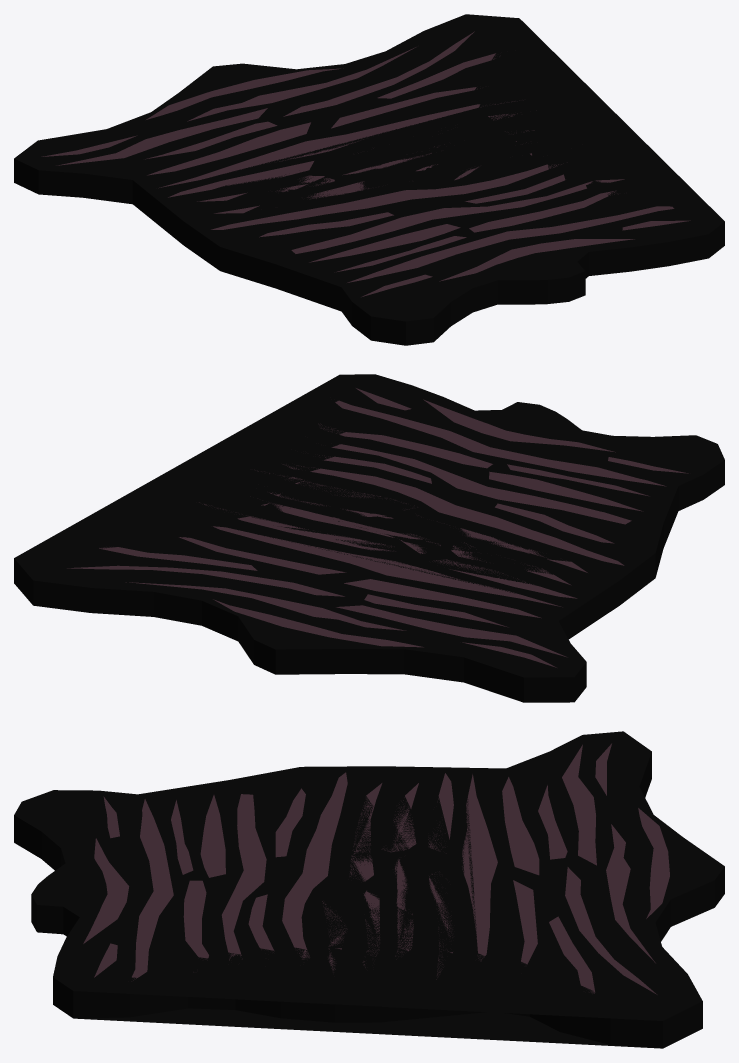
The model's file is Hide 03.fbx.
The picture shows the model from 3 angles, top to bottom: view 1: azimuth 30°, elevation 25°; view 2: azimuth 150°, elevation 25°; view 3: azimuth 270°, elevation 25°; orthographic projection. The views are drawn at different scales.
Visible parts, largest first — view 1: Hide 03; view 2: Hide 03; view 3: Hide 03.
Boxes of the visible parts, left/top/right/bottom form: Hide 03: left=14, top=14, right=724, bottom=345; Hide 03: left=14, top=374, right=724, bottom=702; Hide 03: left=14, top=731, right=724, bottom=1048.
Size of the model in its own units: 104 by 4.61 by 108.
